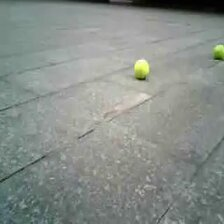tennis: (133, 60, 149, 78), (213, 43, 224, 59)
